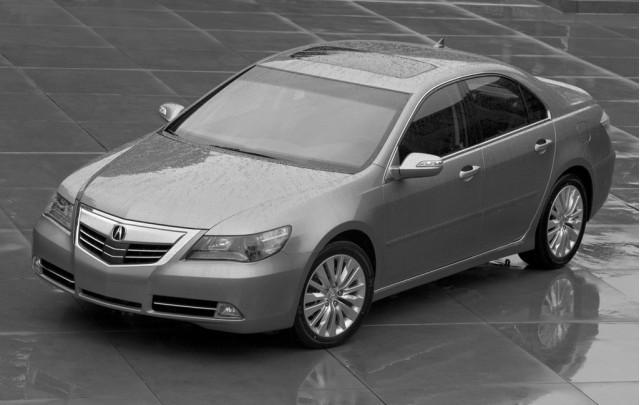car: (30, 35, 619, 350)
